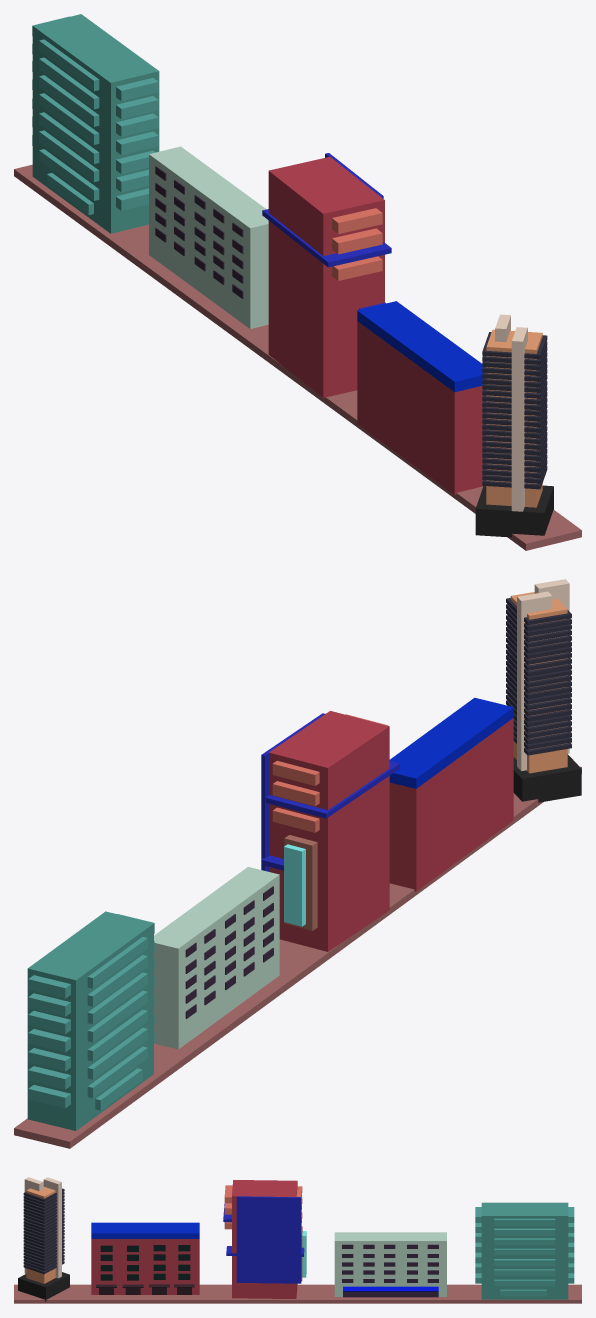
File: BuildingBlockC.glb
The picture shows the model from 3 angles, top to bottom: view 1: azimuth 30°, elevation 25°; view 2: azimuth 150°, elevation 25°; view 3: azimuth 270°, elevation 25°; orthographic projection. The views are drawn at different scales.
Parts seen in each view (by area): view 1: Cube.455, Cube.491, Cube.454, Cube.492, Cube.400, Cube.429, Cube.427, Cube.428, Cube.401, Cube.459, Cube.493, Cube.503 (+13 smaller); view 2: Cube.455, Cube.491, Cube.454, Cube.492, Cube.400, Cube.429, Cube.427, Cube.401, Cube.426, Cube.462, Cube.461, Cube.459 (+13 smaller); view 3: Cube.400, Cube.492, Cube.456, Cube.491, Cube.454, Cube.455, Cube.429, Cube.427, Cube.426, Cube.465, Cube.464, Cube.401 (+12 smaller).
Boxes of the visible parts, <box> form: Cube.455: <box>268,157,384,397</box>; Cube.491: <box>149,146,268,328</box>; Cube.454: <box>357,321,482,494</box>; Cube.492: <box>32,14,159,233</box>; Cube.400: <box>14,164,581,550</box>; Cube.429: <box>357,301,482,392</box>; Cube.427: <box>475,485,553,537</box>; Cube.428: <box>511,327,527,511</box>; Cube.401: <box>486,329,542,507</box>; Cube.459: <box>262,209,391,267</box>; Cube.493: <box>39,39,99,91</box>; Cube.503: <box>39,130,99,182</box>; Cube.455: <box>269,711,389,951</box>; Cube.491: <box>154,867,279,1049</box>; Cube.454: <box>389,718,513,891</box>; Cube.492: <box>27,911,153,1130</box>; Cube.400: <box>14,766,581,1148</box>; Cube.429: <box>389,697,513,788</box>; Cube.427: <box>513,754,581,802</box>; Cube.401: <box>510,592,567,773</box>; Cube.426: <box>517,591,552,770</box>; Cube.462: <box>284,844,305,926</box>; Cube.461: <box>284,835,317,930</box>; Cube.459: <box>265,761,399,818</box>; Cube.400: <box>14,1284,581,1303</box>; Cube.492: <box>481,1202,568,1299</box>; Cube.456: <box>236,1196,301,1283</box>; Cube.491: <box>334,1232,446,1296</box>; Cube.454: <box>91,1239,199,1294</box>; Cube.455: <box>232,1180,297,1298</box>; Cube.429: <box>91,1222,199,1238</box>; Cube.427: <box>18,1272,69,1301</box>; Cube.426: <box>43,1177,61,1278</box>; Cube.465: <box>343,1291,438,1297</box>; Cube.464: <box>343,1286,438,1291</box>; Cube.401: <box>26,1181,55,1283</box>.
Bounding box in the file's own units: 44.02 × 96.99 × 449.
